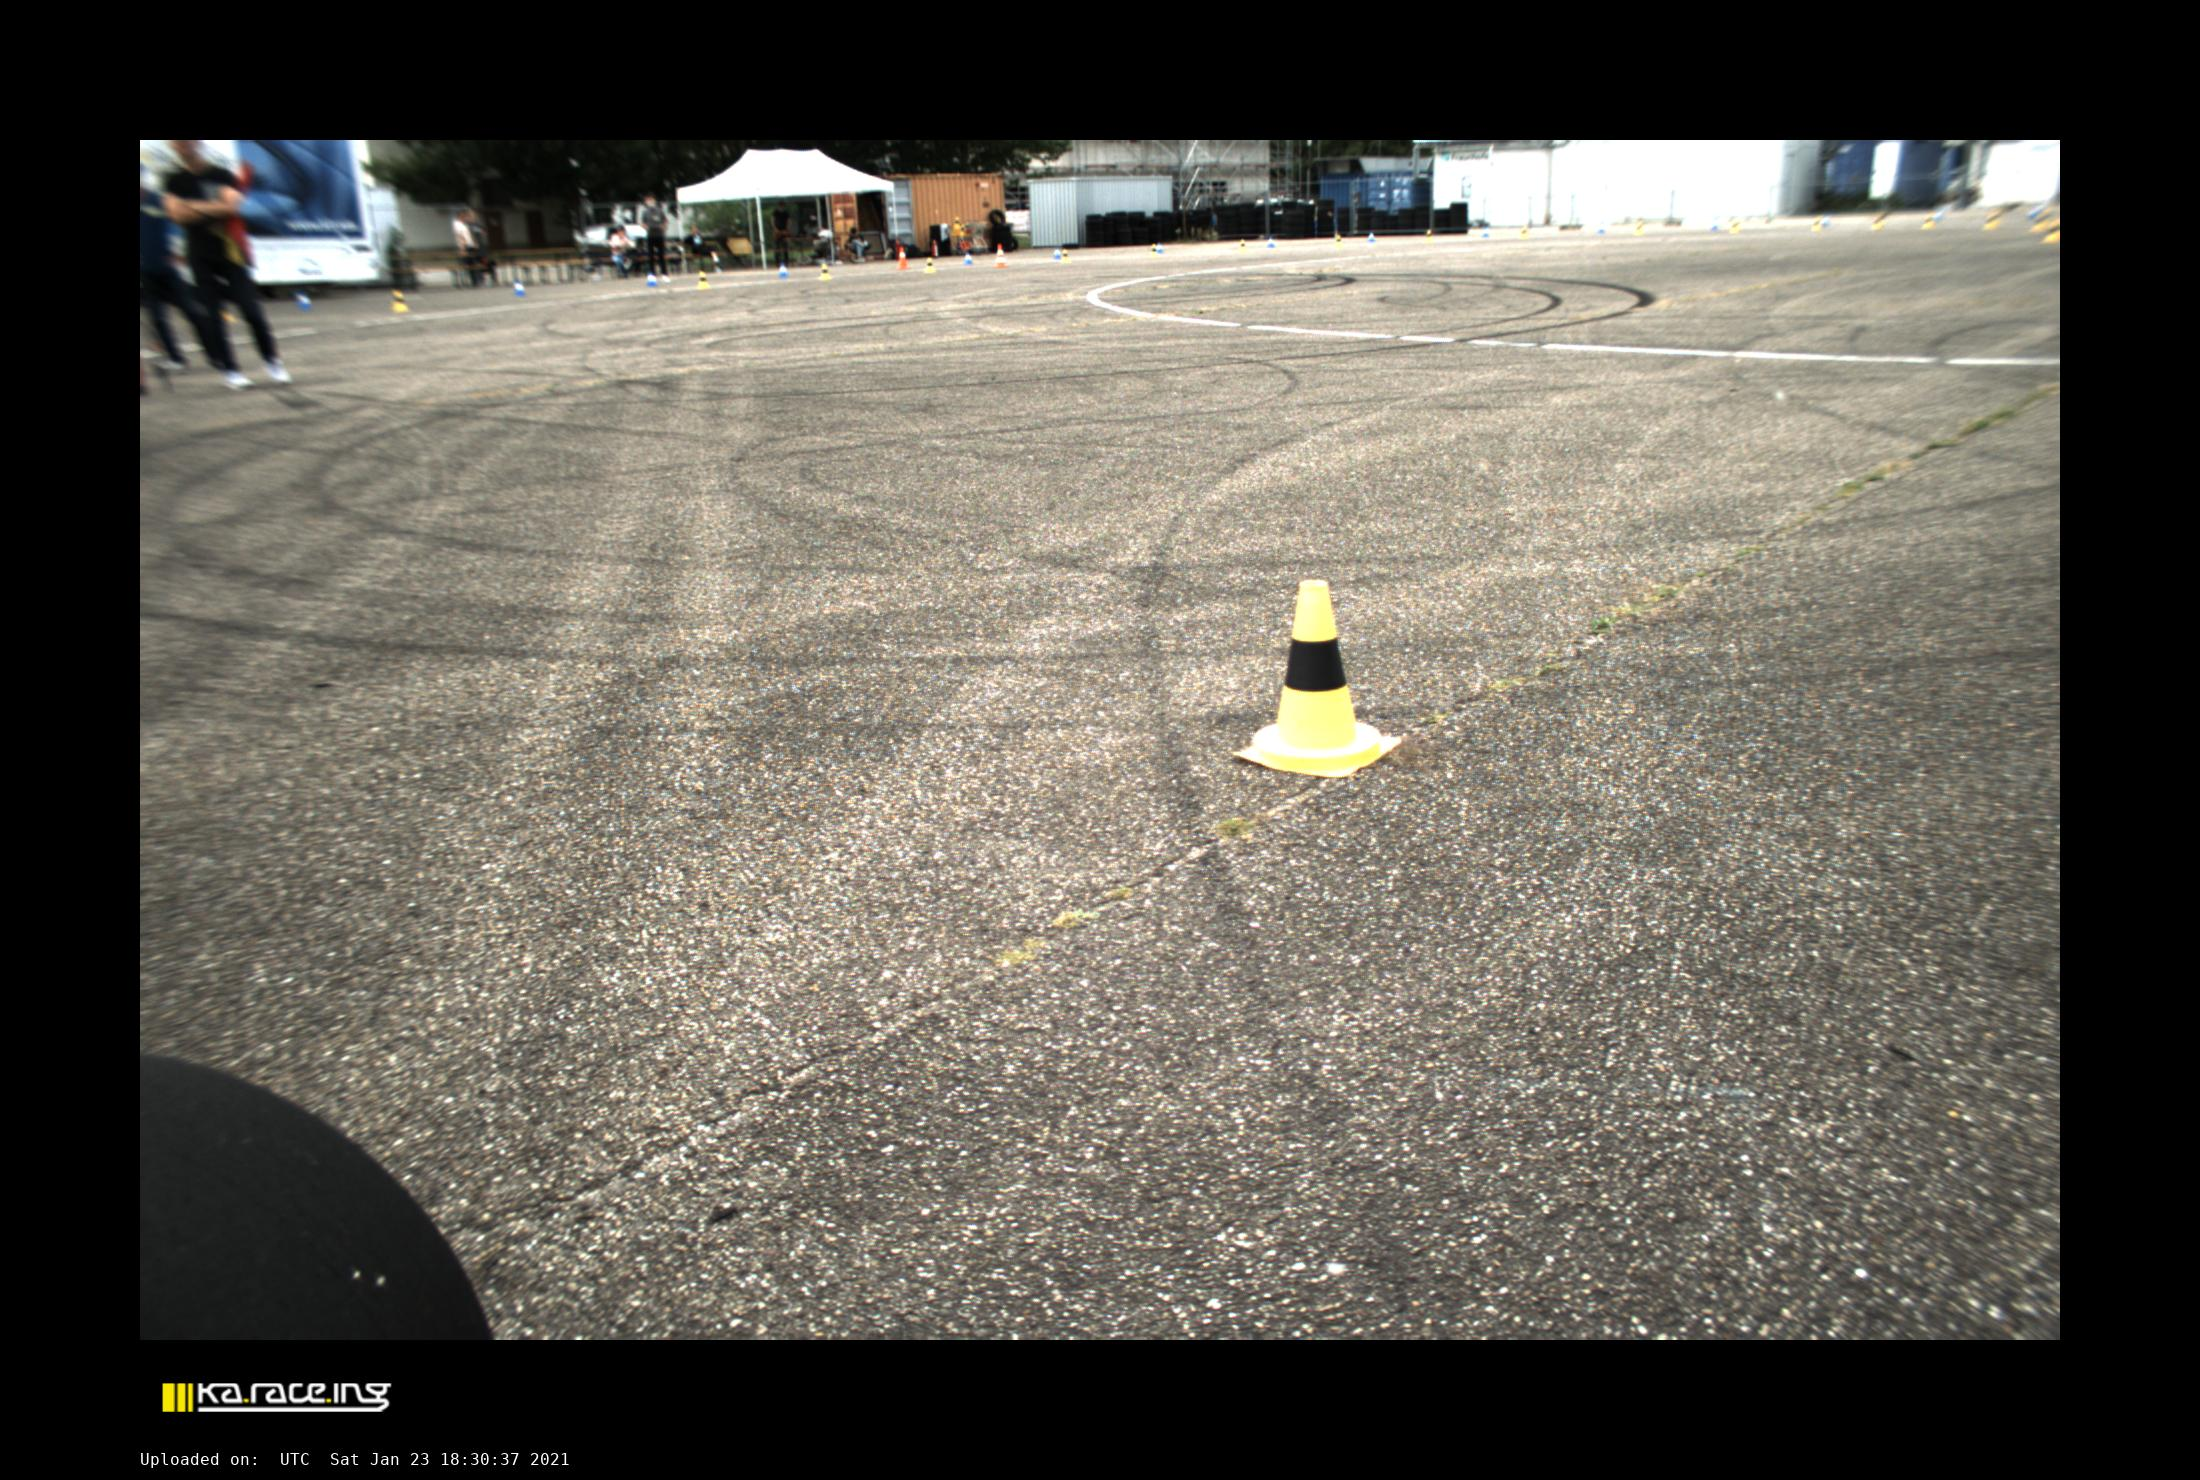blue_cone: (292, 289, 315, 311), (2025, 203, 2043, 221), (514, 277, 525, 297), (1932, 205, 1946, 221), (776, 263, 789, 277), (646, 273, 657, 287), (1709, 216, 1719, 231), (1595, 221, 1605, 235), (963, 253, 973, 264), (1267, 236, 1277, 248), (1822, 211, 1828, 228), (1368, 231, 1376, 243), (1482, 226, 1490, 238), (1054, 248, 1062, 259), (1158, 243, 1164, 254)
large_orange_cone: (895, 248, 912, 269), (994, 244, 1008, 268)
yellow_cone: (1234, 580, 1401, 776), (2028, 206, 2053, 231), (2040, 218, 2060, 244), (1982, 210, 2002, 230), (1870, 211, 1886, 230), (393, 291, 408, 311), (695, 271, 710, 289), (818, 263, 832, 281), (1921, 213, 1936, 230), (923, 258, 936, 273), (1810, 215, 1822, 231), (1060, 249, 1072, 264), (1729, 218, 1739, 235), (1148, 244, 1159, 258), (1633, 221, 1643, 236), (1239, 240, 1249, 253), (1335, 235, 1344, 248), (1520, 226, 1529, 240), (1424, 230, 1434, 243)
